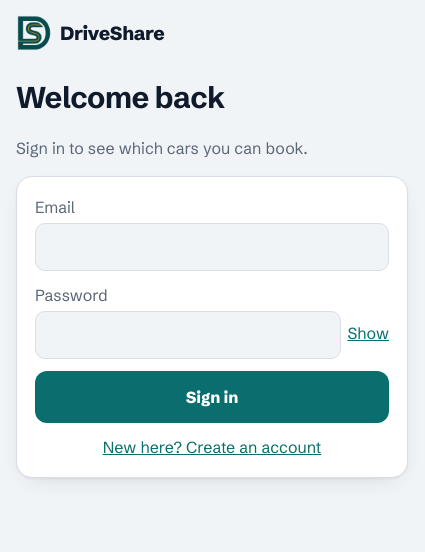
Test case: LoginPage › asks for a longer password
Step 1. Type "a@b.co" into the field labelled "Email" → (212, 247), box [35,223,389,271]
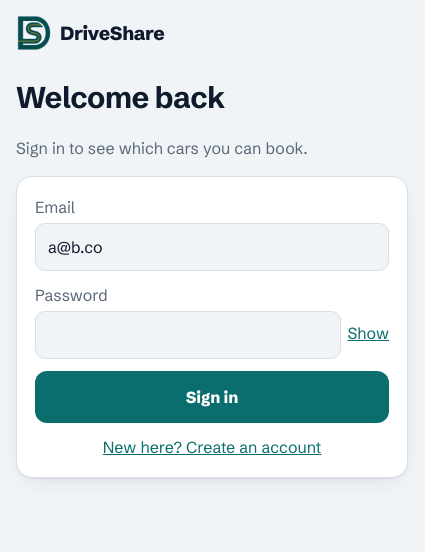
Step 2. Click the button "Sign in" → (212, 397), box [35,371,389,423]
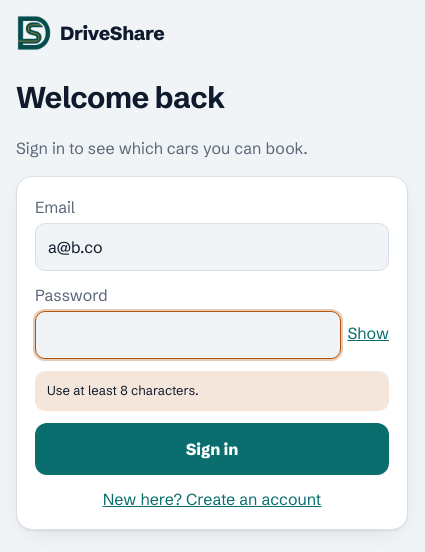
Now the message shows "at least 8", box [47,382,199,398]
